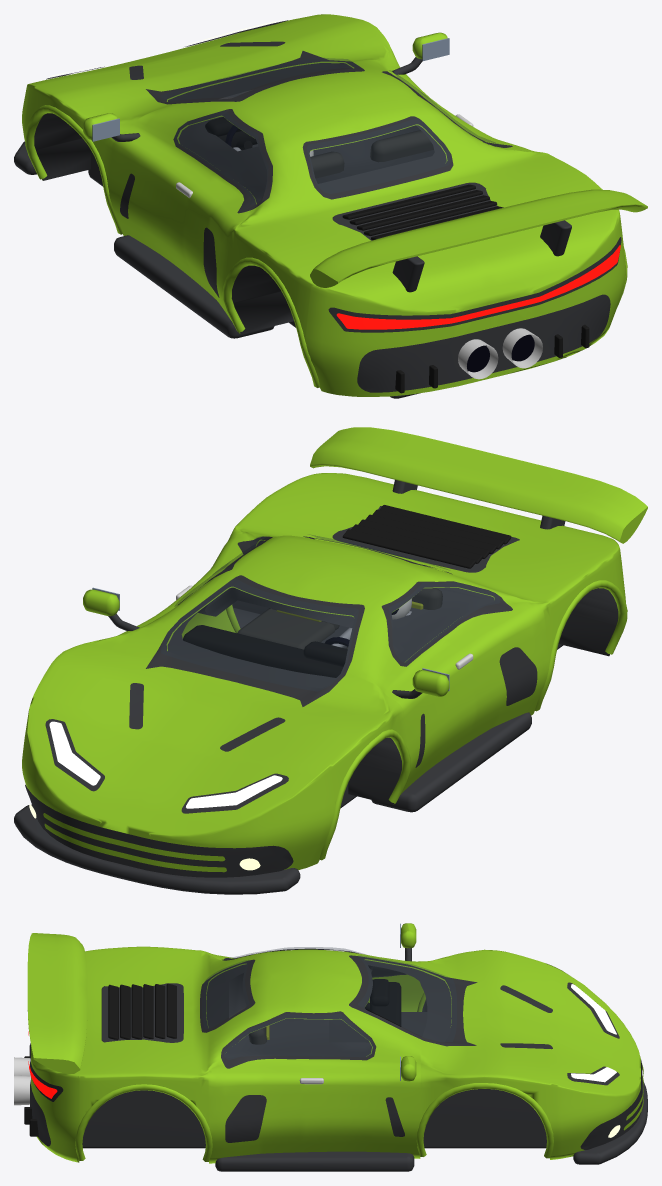
The model's file is car_super.glb.
The picture shows the model from 3 angles, top to bottom: view 1: azimuth 30°, elevation 25°; view 2: azimuth 150°, elevation 25°; view 3: azimuth 270°, elevation 25°; orthographic projection. The views are drawn at different scales.
Parts seen in each view (by area): view 1: body_q, detail_q; view 2: body_q, detail_q; view 3: body_q, detail_q.
Boxes of the visible parts, x1,y1,x2,y2 form: body_q: [14, 14, 647, 398]; detail_q: [92, 38, 589, 393]; body_q: [14, 427, 647, 894]; detail_q: [92, 505, 511, 691]; body_q: [27, 923, 647, 1171]; detail_q: [14, 923, 401, 1136].
Size of the model in its own units: 2.43 by 1.08 by 4.46.
